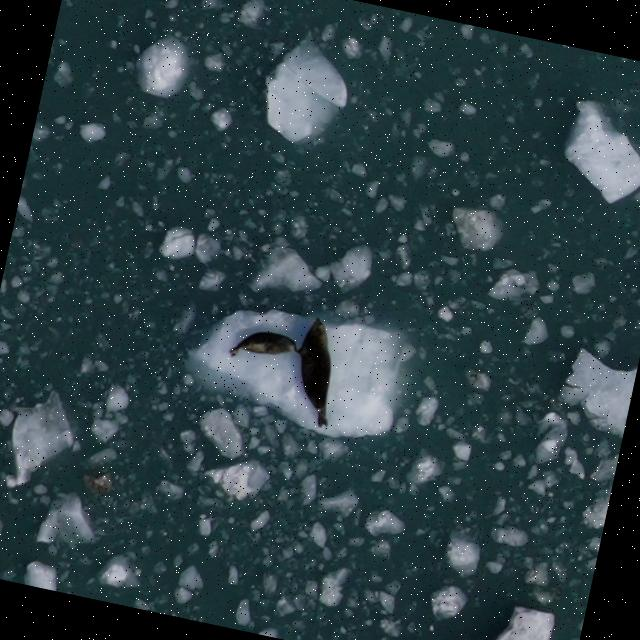seal: (280, 311, 354, 433), (224, 319, 305, 374)
